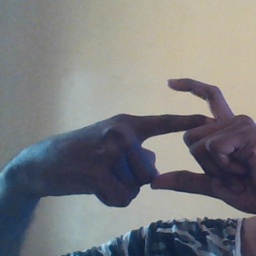E: (111, 74, 229, 194)
